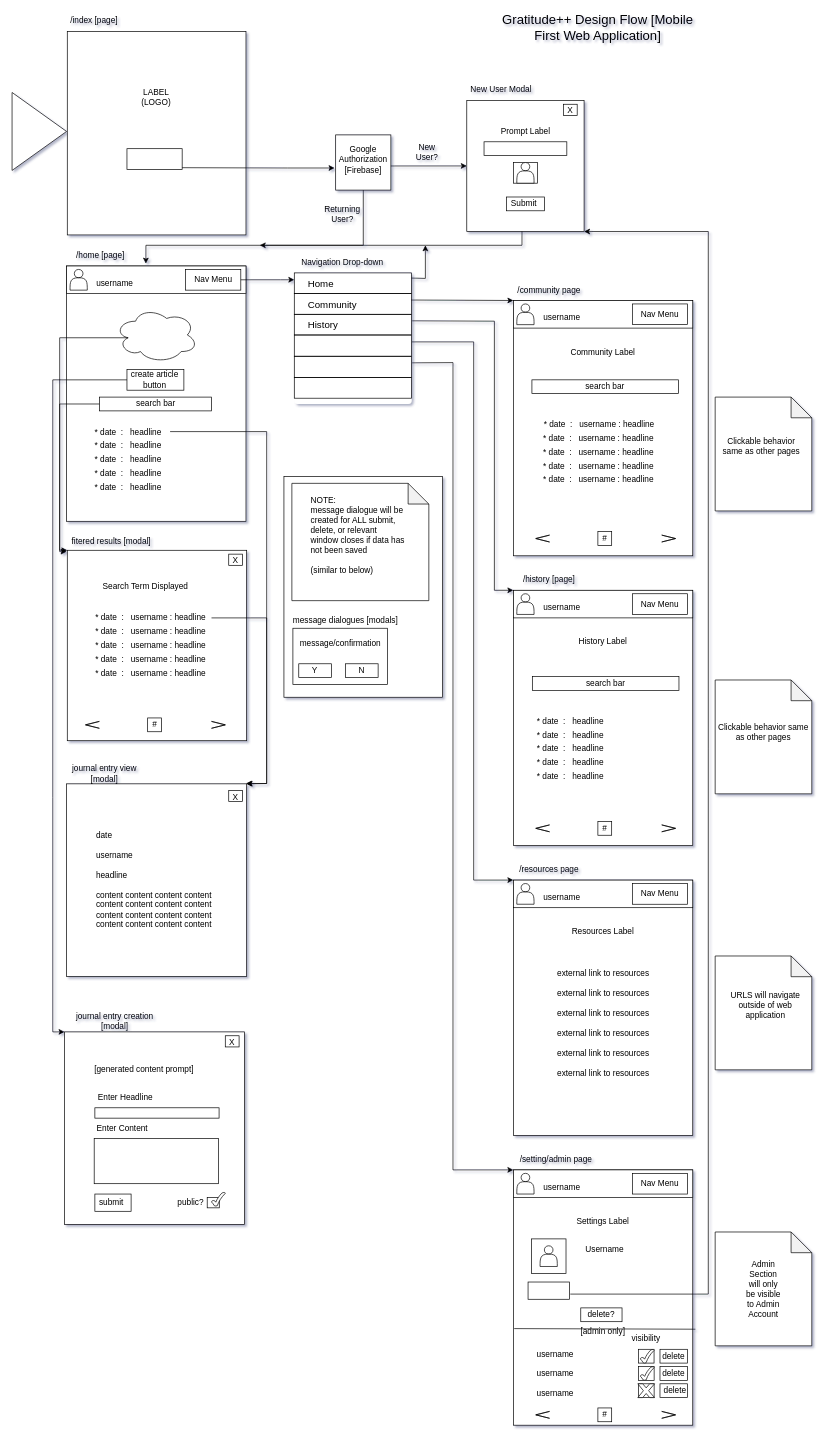
Some shapes in this 828 by 1441 pixel diagram are drawn without their labels. Here are the shapes that lost their labels. From the top down, the centre of each, then its label:
At point (39, 131): "User Entry".
At point (525, 148): "Username input".
At point (154, 158): "Login".
At point (156, 335): "word cloud component".
At point (353, 345): "Resources".
At point (353, 366): "Setting/Admin".
At point (353, 387): "Log Out".
At point (548, 1290): "change?".
